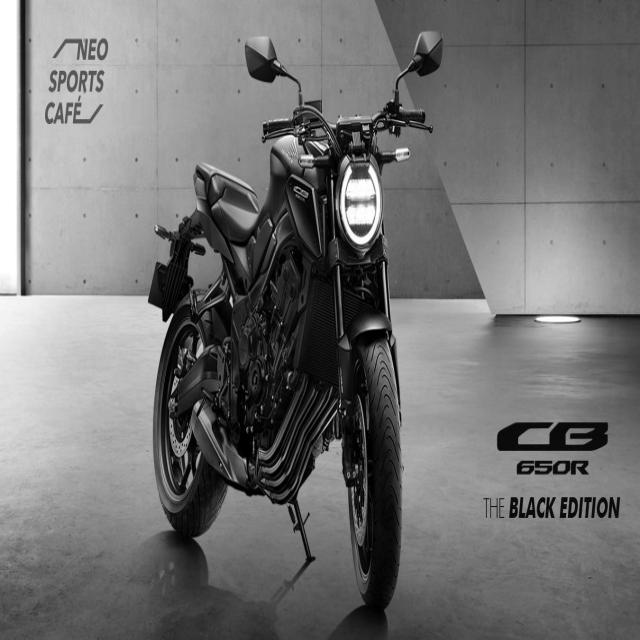Motorcycle: (148, 30, 444, 609)
